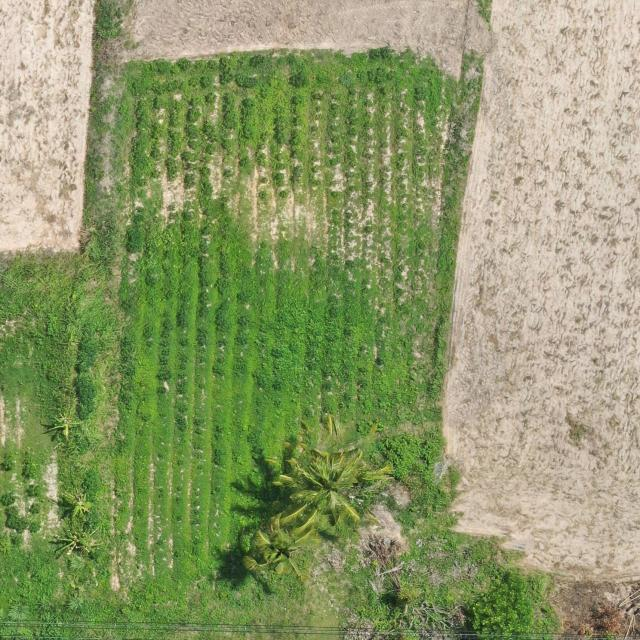Tree: (277, 446, 392, 534), (243, 512, 320, 582), (469, 571, 533, 640)
